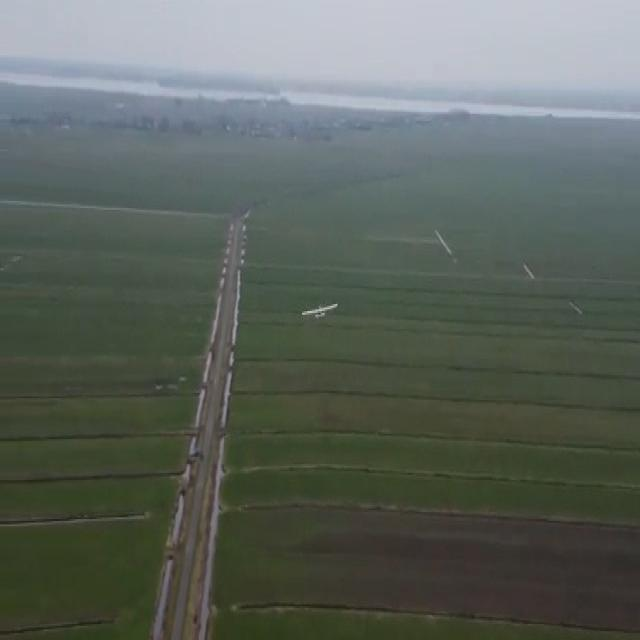drones: (297, 290, 342, 339)
